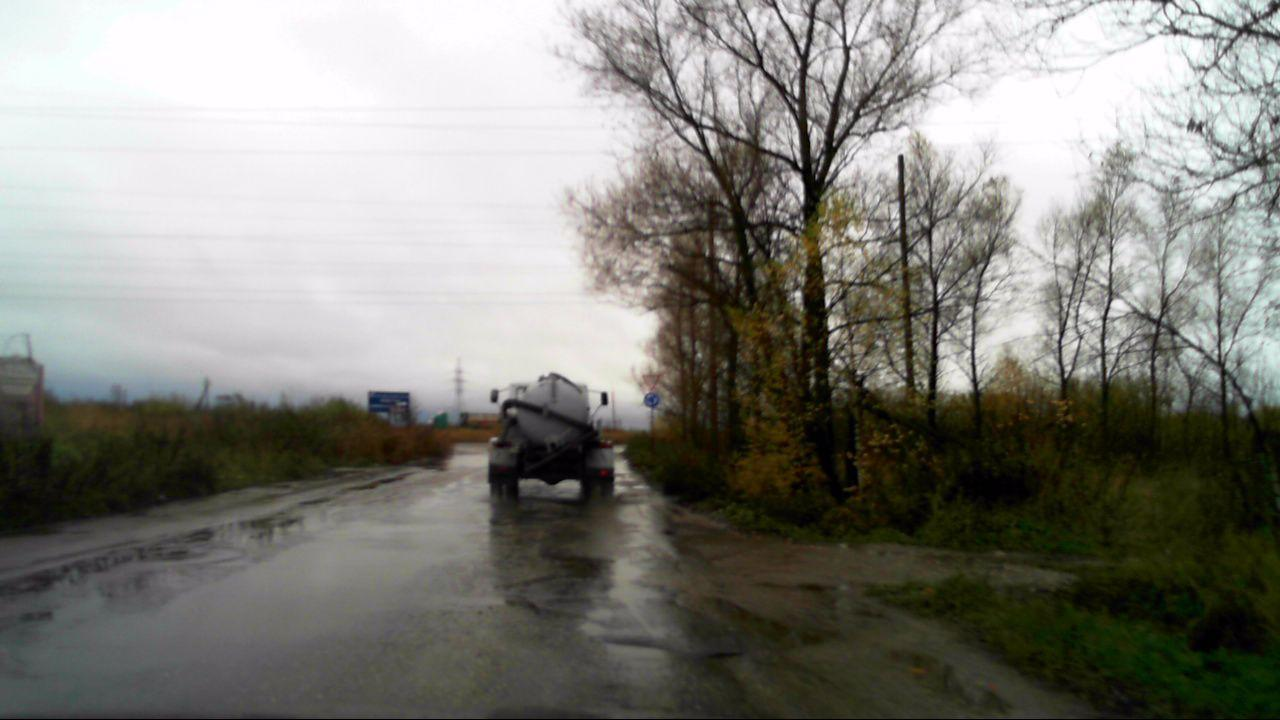2_4: (641, 373, 662, 390)
4_3: (643, 392, 659, 408)
